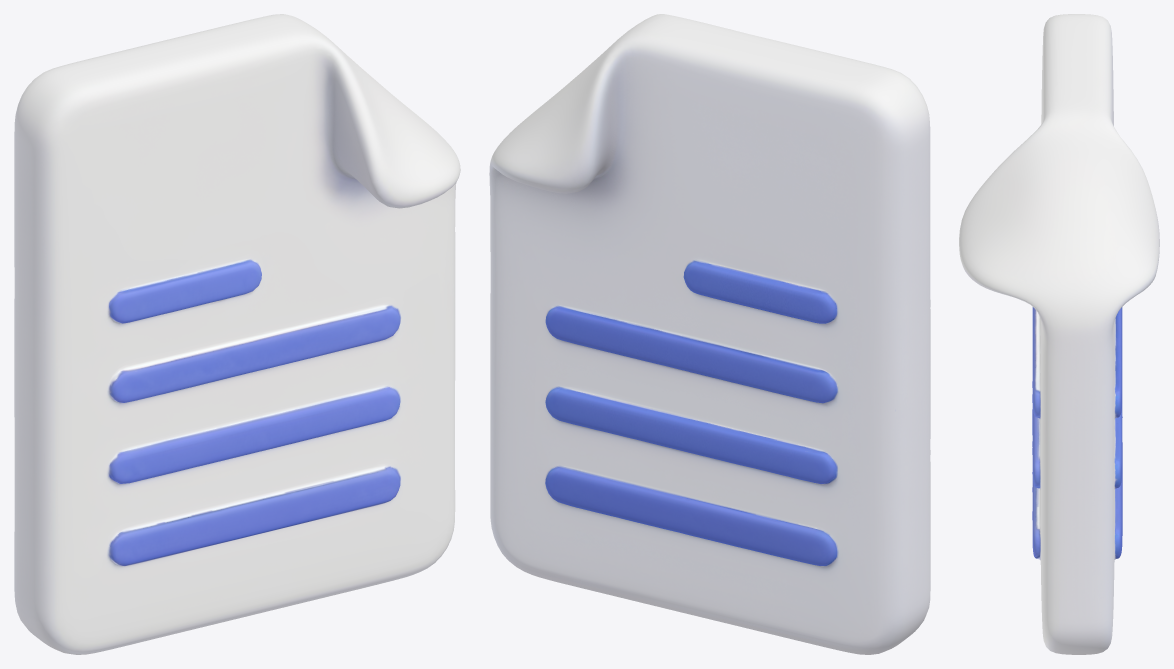
File: base_basic_shaded.glb
3 renders of one model, left to right at view 1: azimuth 30°, elevation 25°; view 2: azimuth 150°, elevation 25°; view 3: azimuth 270°, elevation 25°, orthographic. The views are drawn at different scales.
Parts seen in each view (by area): view 1: model; view 2: model; view 3: model.
Part boxes in pixels (x1=…): model: x1=14, y1=14, x2=460, y2=654; model: x1=489, y1=14, x2=930, y2=654; model: x1=959, y1=14, x2=1159, y2=654.
Size of the model in its own units: 1.46 by 1.9 by 0.6975.
Materials: 1 (1 with a texture image).
